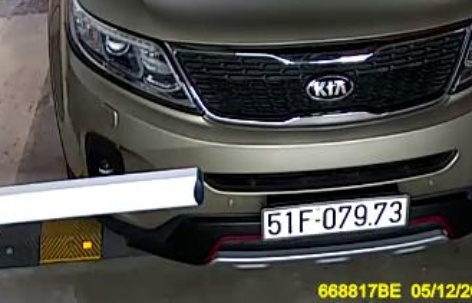plate: (252, 198, 411, 239)
